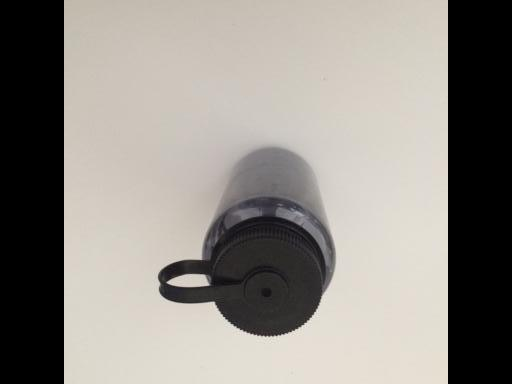metal: (156, 146, 336, 339)
